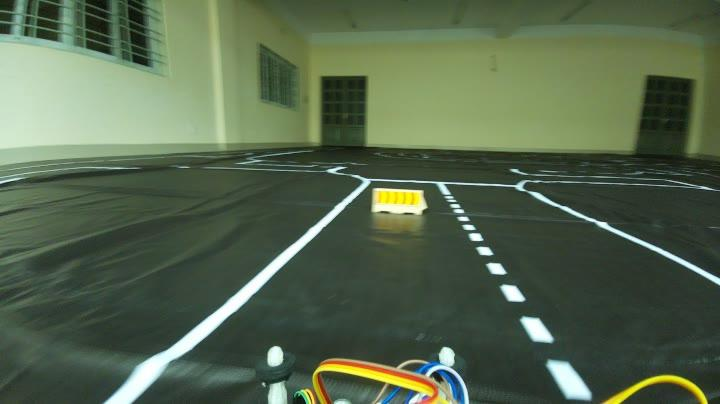roadblock: (364, 182, 426, 226)
